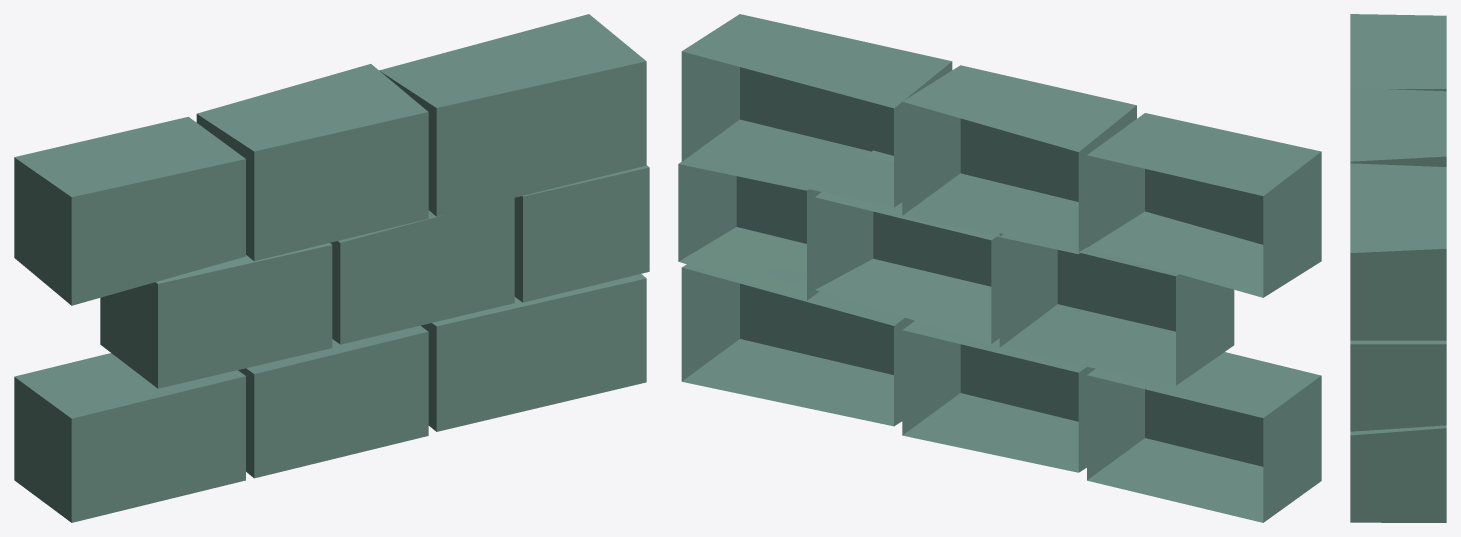
The model's file is Bricks_LeftStraight.glb.
3 renders of one model, left to right at view 1: azimuth 30°, elevation 25°; view 2: azimuth 150°, elevation 25°; view 3: azimuth 270°, elevation 25°, orthographic. The views are drawn at different scales.
Parts seen in each view (by area): view 1: Bricks_LeftStraight; view 2: Bricks_LeftStraight; view 3: Bricks_LeftStraight.
Part boxes in pixels (bbox=[...]): Bricks_LeftStraight: bbox=[14, 14, 649, 522]; Bricks_LeftStraight: bbox=[678, 14, 1321, 522]; Bricks_LeftStraight: bbox=[1350, 14, 1446, 522].
Bounding box in the file's own units: 0.7915 × 0.4318 × 0.1364.
1 material, 1 textured.
